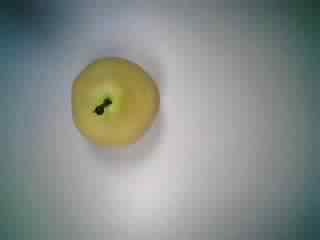pear: (57, 46, 168, 159)
